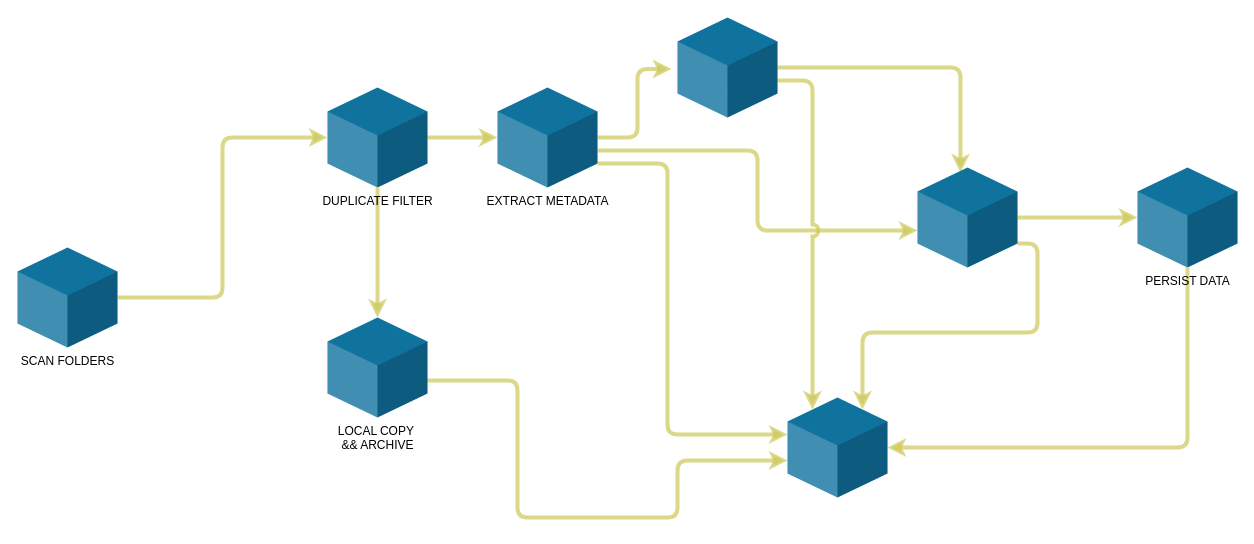
Some shapes in this 1254 by 544 pixel diagram are drawn without their labels. The shapes that lost their labels are listed below. From the top down, each one's centre as x and y in pixels, then its label:
At (727,67): "PROCESS IMAGES".
At (967,217): "BUILD DATA TO PERSIST".
At (837,447): "MONITOR".
